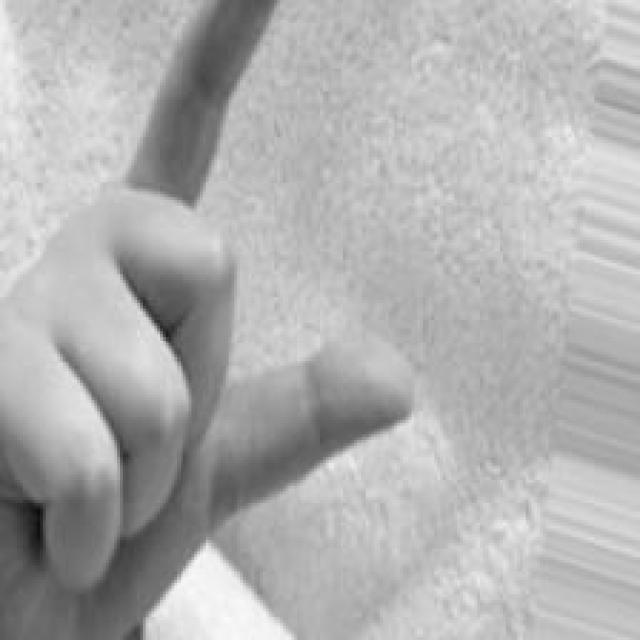L: (2, 2, 423, 640)
